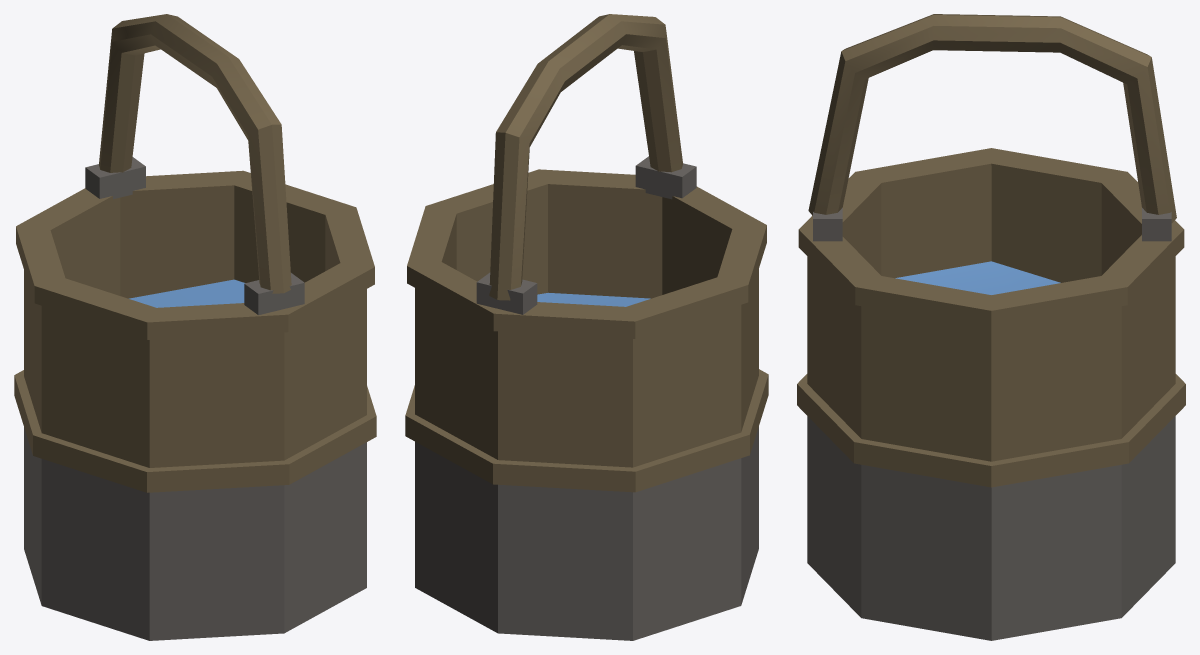
Rendered from bucket of water.fbx.
3 views of the same model, side by side, from view 1: azimuth 30°, elevation 25°; view 2: azimuth 150°, elevation 25°; view 3: azimuth 270°, elevation 25° (orthographic). The views are drawn at different scales.
Visible parts, largest first — view 1: water_bucket; view 2: water_bucket; view 3: water_bucket.
Part boxes in pixels (x1=…): water_bucket: x1=14, y1=14, x2=376, y2=640; water_bucket: x1=405, y1=14, x2=768, y2=640; water_bucket: x1=797, y1=14, x2=1185, y2=640.
Size of the model in its own units: 68.92 by 108 by 68.92.
1 material, 1 textured.
